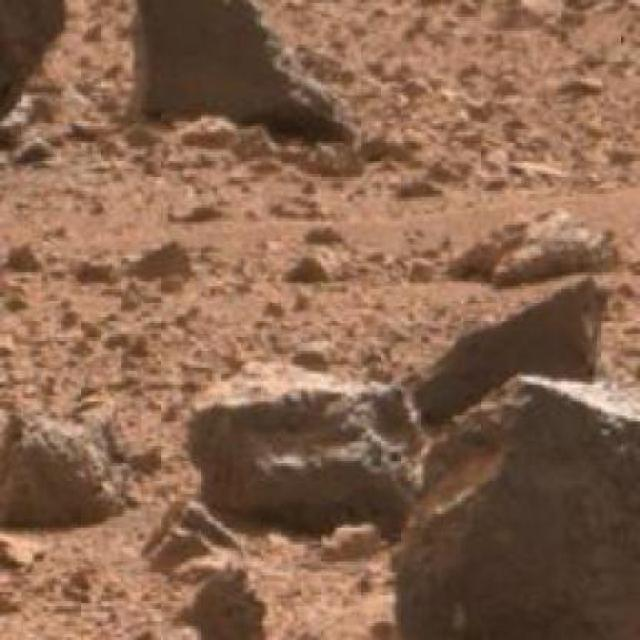rock: (388, 376, 637, 638), (182, 359, 426, 510), (118, 0, 362, 140), (410, 280, 612, 435), (0, 395, 165, 531), (434, 202, 634, 290)
